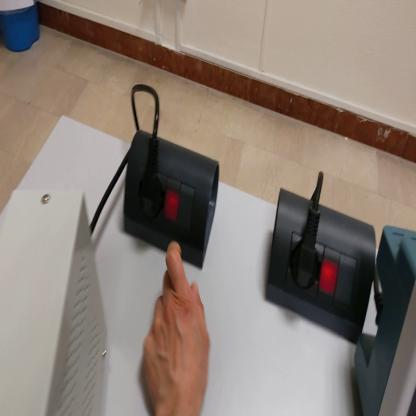hand: (142, 245, 210, 416)
oscilloscope: (353, 226, 416, 415)
power supply: (2, 189, 108, 414)
socket: (264, 184, 378, 350), (121, 130, 219, 273)
